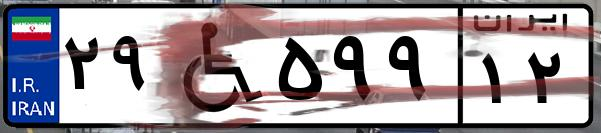1: (475, 38, 525, 113)
2: (57, 26, 110, 100), (525, 38, 570, 115)
5: (270, 28, 330, 110)
9: (385, 28, 445, 110), (330, 28, 385, 110), (110, 28, 158, 98)
ژ (معلولین و جانبازان): (158, 12, 270, 120)
